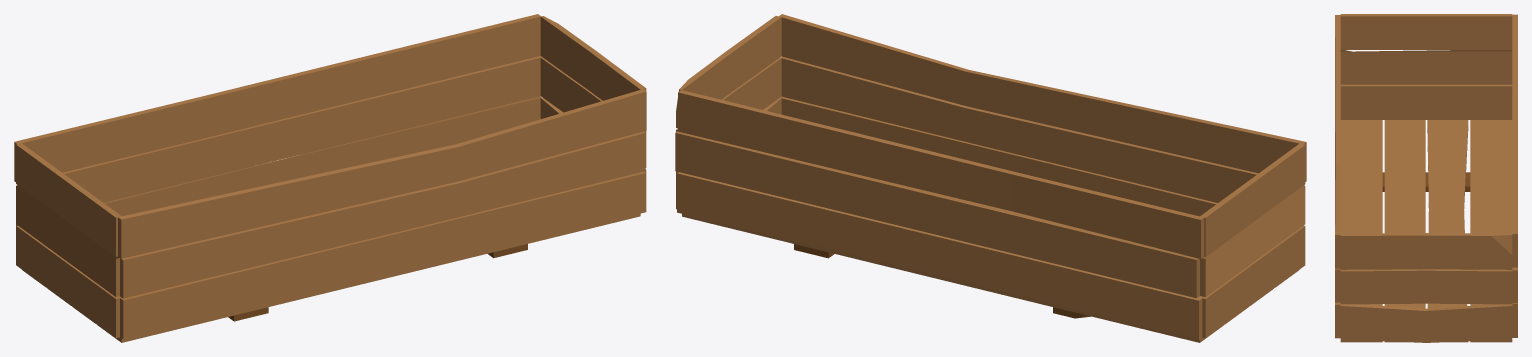
File: Crate.003.fbx
The picture shows the model from 3 angles, left to right: view 1: azimuth 30°, elevation 25°; view 2: azimuth 150°, elevation 25°; view 3: azimuth 270°, elevation 25°; orthographic projection. The views are drawn at different scales.
Visible parts, largest first — view 1: Crate.003; view 2: Crate.003; view 3: Crate.003.
Part boxes in pixels (left/top/right/bottom): Crate.003: left=14, top=14, right=646, bottom=342; Crate.003: left=675, top=14, right=1306, bottom=342; Crate.003: left=1335, top=14, right=1517, bottom=342.
Bounding box in the file's own units: 1.84 × 0.4424 × 0.64.
